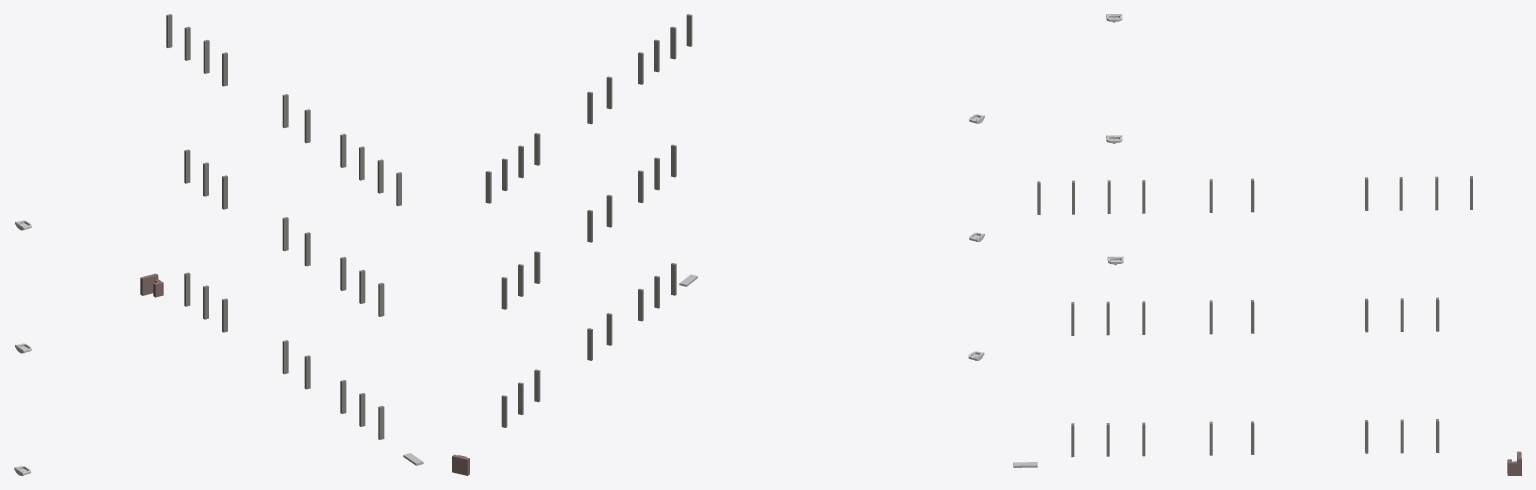
The picture shows the model from 3 angles, left to right: view 1: azimuth 30°, elevation 25°; view 2: azimuth 150°, elevation 25°; view 3: azimuth 270°, elevation 25°; orthographic projection. The views are drawn at different scales.
Bounding box in the file's own units: 9.02 × 7.34 × 11.41.
